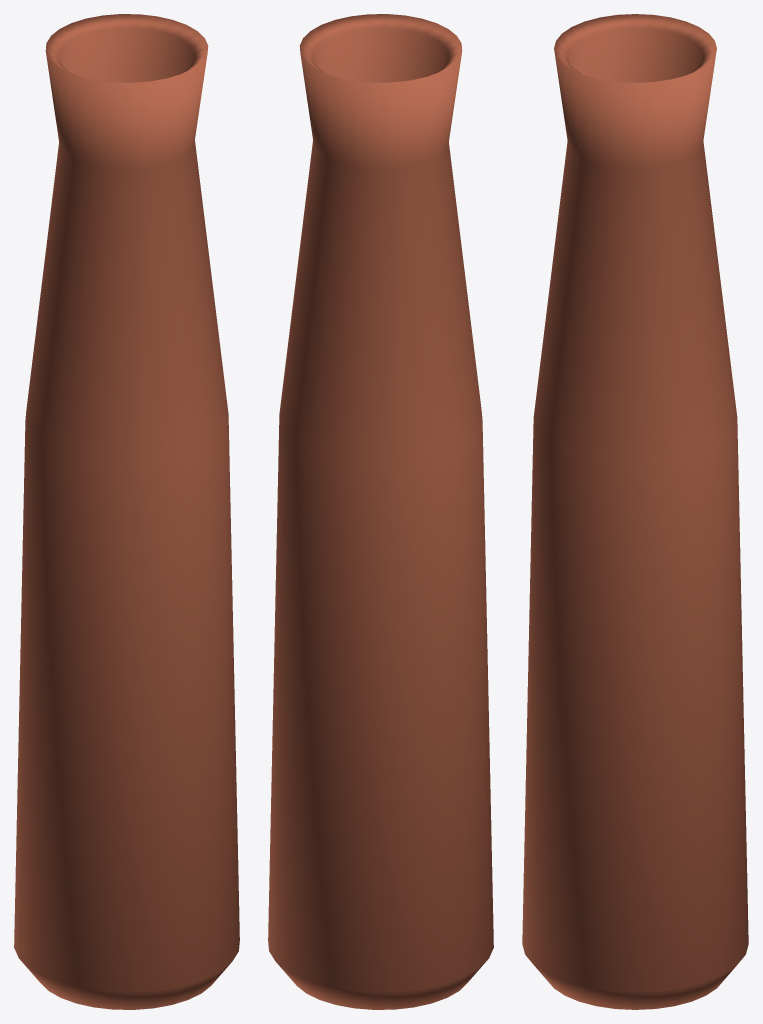
File: i_vase_7_0.glb
3 views of the same model, side by side, from view 1: azimuth 30°, elevation 25°; view 2: azimuth 150°, elevation 25°; view 3: azimuth 270°, elevation 25° (orthographic).
Visible parts, largest first — view 1: o; view 2: o; view 3: o.
Boxes of the visible parts, x1,y1,x2,y2 form: o: [14, 14, 239, 1009]; o: [268, 14, 493, 1009]; o: [522, 14, 748, 1009].
Bounding box in the file's own units: 0.1 × 0.45 × 0.1.
